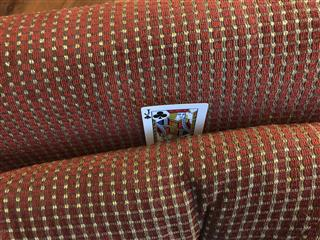JackOfClubs: (140, 102, 208, 146)
